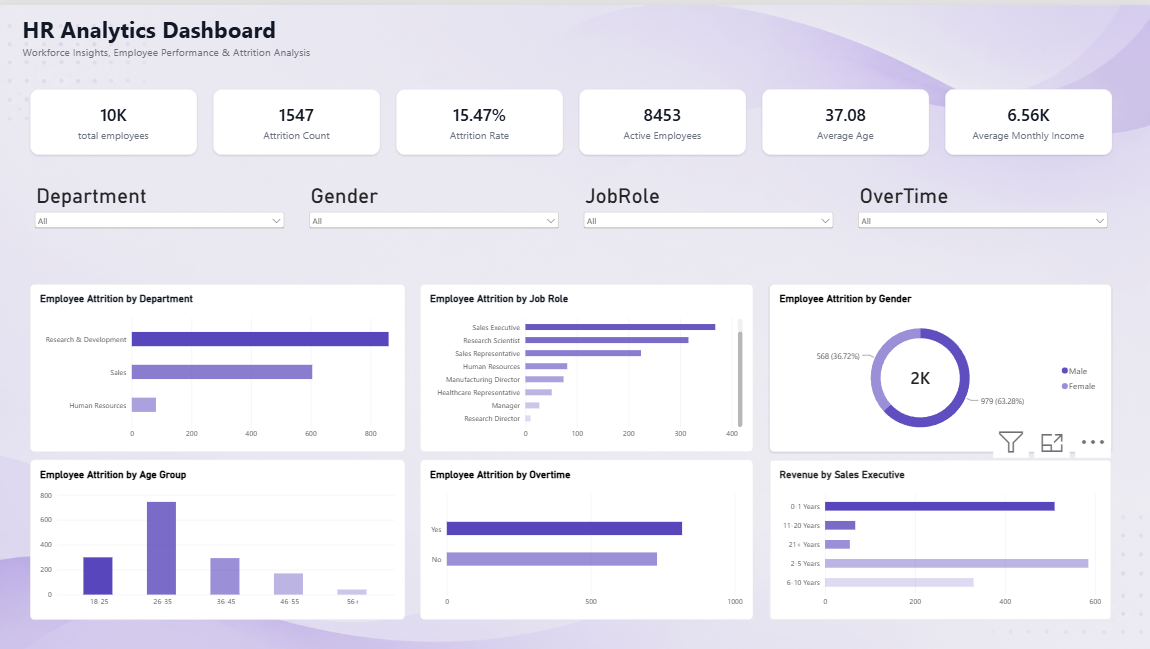

What the dashboard file says about the page in this screenshot:
{"tool":"powerbi","page":{"name":"Page 1","canvas":[1920,1080],"ordinal":0},"visuals":[{"type":"textbox","box":[10,0,280,280],"z":0},{"type":"slicer","fields":{"Values":["HR_Analytics_10000_Employees.Department"]},"box":[52.5,297.5,426.5,82.5],"z":0,"group":"g2"},{"type":"textbox","title":"HR Analytics Dashboard","box":[38,16,495,77.5],"z":1000},{"type":"slicer","fields":{"Values":["HR_Analytics_10000_Employees.Gender"]},"box":[510.3,297.5,426.5,82.5],"z":1000,"group":"g2"},{"type":"card","fields":{"Values":["HR_Analytics_10000_Employees.total employees"]},"box":[50,140,278.7,110],"z":2000,"group":"g1"},{"type":"slicer","fields":{"Values":["HR_Analytics_10000_Employees.OverTime"]},"box":[1426,297.5,426.5,82.5],"z":2000,"group":"g2"},{"type":"clusteredBarChart","title":"Employee Attrition by Tenure Group","fields":{"Category":["HR_Analytics_10000_Employees.Department"],"Y":["HR_Analytics_10000_Employees.Attrition Count"]},"box":[50.8,465,625,280],"z":2000},{"type":"card","fields":{"Values":["HR_Analytics_10000_Employees.Attrition Count"]},"box":[354.8,140,278.7,110],"z":3000,"group":"g1"},{"type":"slicer","fields":{"Values":["HR_Analytics_10000_Employees.JobRole"]},"box":[968.2,297.5,426.5,82.5],"z":3000,"group":"g2"},{"type":"clusteredBarChart","title":"Employee Attrition by Job Role","fields":{"Category":["HR_Analytics_10000_Employees.JobRole"],"Y":["HR_Analytics_10000_Employees.Attrition Count"]},"box":[700,465,555,280],"z":3000},{"type":"card","fields":{"Values":["HR_Analytics_10000_Employees.Attrition Rate"]},"box":[659.5,140,278.7,110],"z":4000,"group":"g1"},{"type":"donutChart","title":"Employee Attrition by Gender","fields":{"Category":["HR_Analytics_10000_Employees.Gender"],"Y":["HR_Analytics_10000_Employees.Attrition Count"]},"box":[1282.5,465,570,280],"z":4000},{"type":"card","fields":{"Values":["HR_Analytics_10000_Employees.Active Employees"]},"box":[964.3,140,278.7,110],"z":5000,"group":"g1"},{"type":"clusteredColumnChart","title":"Employee Attrition by Age Group","fields":{"Category":["HR_Analytics_10000_Employees.Age Group"],"Y":["HR_Analytics_10000_Employees.Attrition Count"]},"box":[50,757.5,625,267.5],"z":5000},{"type":"card","fields":{"Values":["HR_Analytics_10000_Employees.Average Age"]},"box":[1269.1,140,278.7,110],"z":6000,"group":"g1"},{"type":"clusteredBarChart","title":"Employee Attrition by Overtime","fields":{"Category":["HR_Analytics_10000_Employees.OverTime"],"Y":["HR_Analytics_10000_Employees.Attrition Count"]},"box":[700,757.5,555,267.5],"z":6000},{"type":"card","fields":{"Values":["HR_Analytics_10000_Employees.Average Monthly Income"]},"box":[1573.8,140,278.7,110],"z":7000,"group":"g1"},{"type":"clusteredBarChart","title":"Revenue by Sales Executive","fields":{"Category":["HR_Analytics_10000_Employees.Tenure Group"],"Y":["HR_Analytics_10000_Employees.Attrition Count"]},"box":[1282.5,757.5,570,267.5],"z":7000},{"type":"group","id":"g1","title":"Group 2","box":[50,140,1802.5,110],"z":8000},{"type":"group","id":"g2","title":"Group 1","box":[52.5,297.5,1800,82.5],"z":8005}]}

Visuals, with their boxes in screenshot pixels (x1, y1, x2, y2), scaled from the page's 1920x1080 canvas onto the 1150x649 screenshot:
textbox: <bbox>6, 0, 174, 168</bbox>
slicer - HR_Analytics_10000_Employees.Department: <bbox>31, 179, 287, 228</bbox>
"HR Analytics Dashboard" textbox: <bbox>23, 10, 319, 56</bbox>
slicer - HR_Analytics_10000_Employees.Gender: <bbox>306, 179, 561, 228</bbox>
card - HR_Analytics_10000_Employees.total employees: <bbox>30, 84, 197, 150</bbox>
slicer - HR_Analytics_10000_Employees.OverTime: <bbox>854, 179, 1110, 228</bbox>
"Employee Attrition by Tenure Group" clusteredBarChart: <bbox>30, 279, 405, 448</bbox>
card - HR_Analytics_10000_Employees.Attrition Count: <bbox>213, 84, 379, 150</bbox>
slicer - HR_Analytics_10000_Employees.JobRole: <bbox>580, 179, 835, 228</bbox>
"Employee Attrition by Job Role" clusteredBarChart: <bbox>419, 279, 752, 448</bbox>
card - HR_Analytics_10000_Employees.Attrition Rate: <bbox>395, 84, 562, 150</bbox>
"Employee Attrition by Gender" donutChart: <bbox>768, 279, 1110, 448</bbox>
card - HR_Analytics_10000_Employees.Active Employees: <bbox>578, 84, 745, 150</bbox>
"Employee Attrition by Age Group" clusteredColumnChart: <bbox>30, 455, 404, 616</bbox>
card - HR_Analytics_10000_Employees.Average Age: <bbox>760, 84, 927, 150</bbox>
"Employee Attrition by Overtime" clusteredBarChart: <bbox>419, 455, 752, 616</bbox>
card - HR_Analytics_10000_Employees.Average Monthly Income: <bbox>943, 84, 1110, 150</bbox>
"Revenue by Sales Executive" clusteredBarChart: <bbox>768, 455, 1110, 616</bbox>
"Group 2" group: <bbox>30, 84, 1110, 150</bbox>
"Group 1" group: <bbox>31, 179, 1110, 228</bbox>
